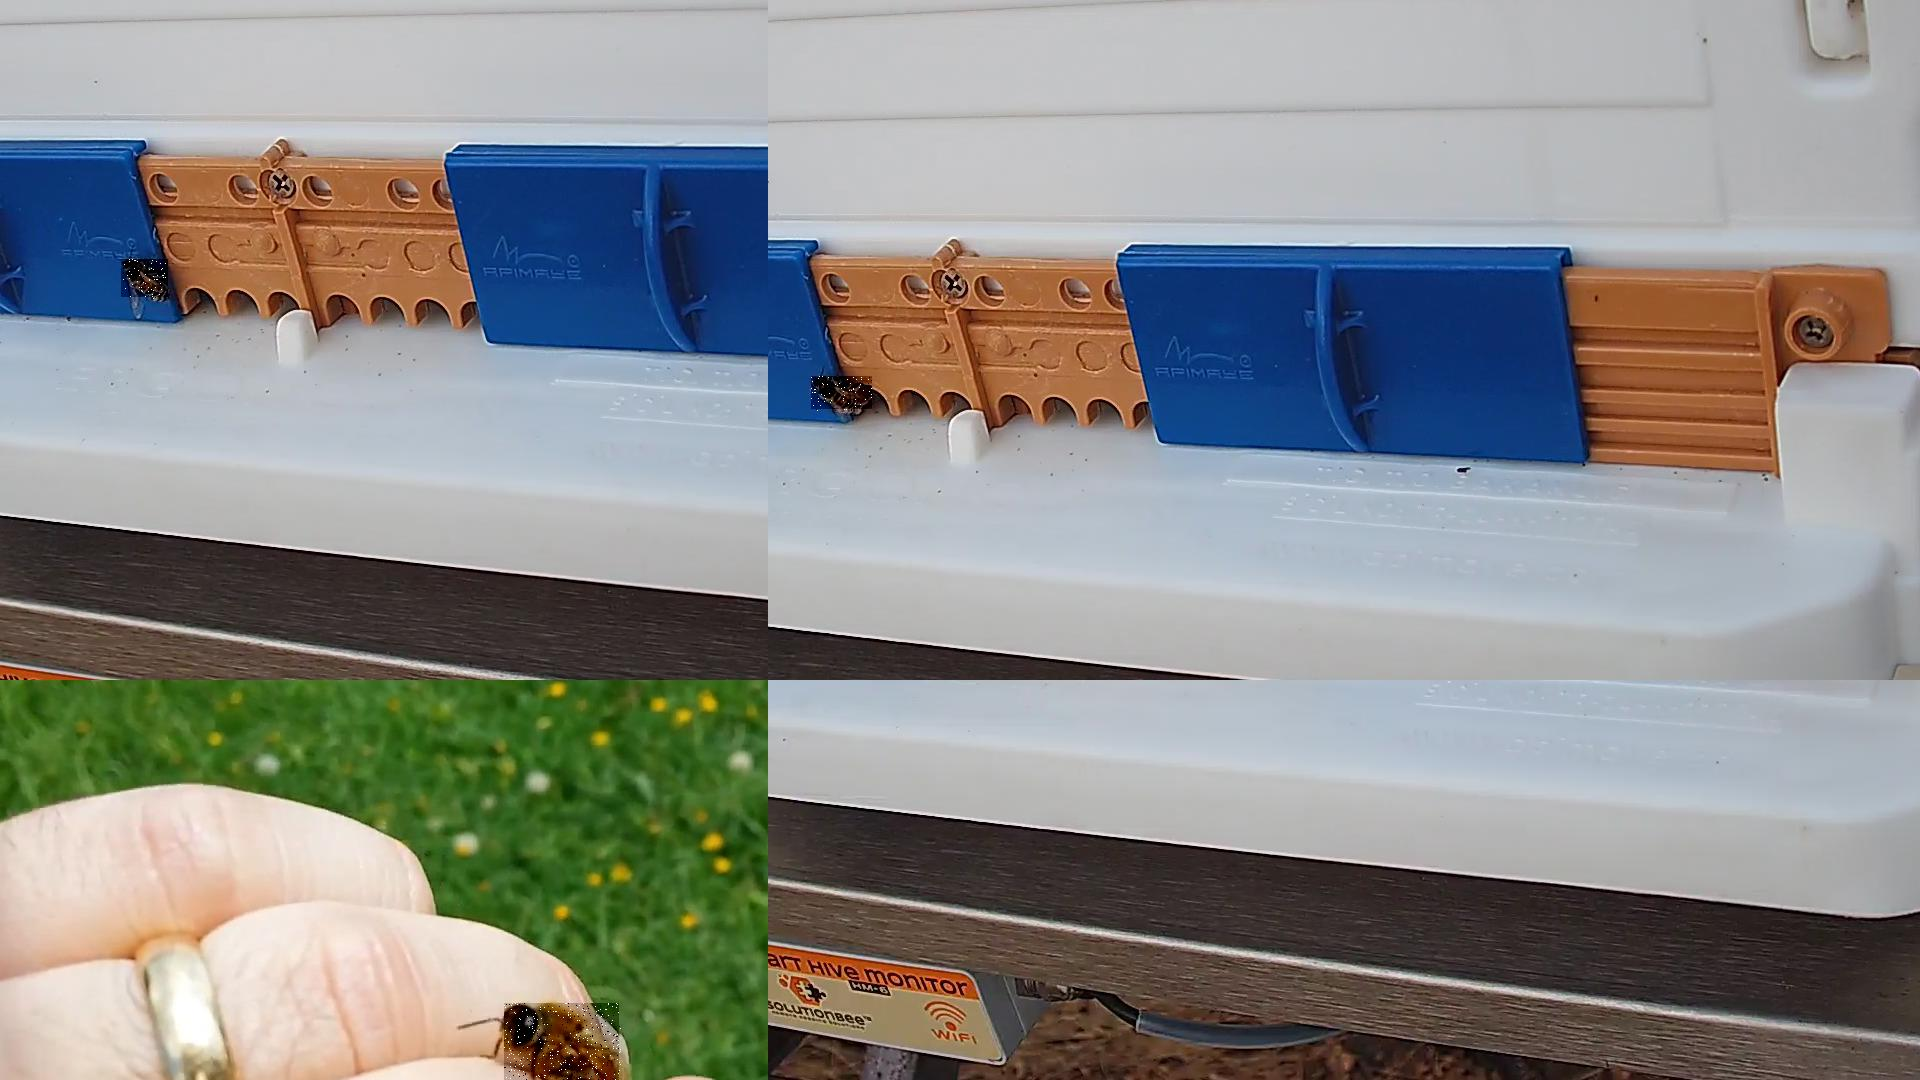bee: (811, 377, 873, 413), (121, 260, 169, 301)
drone: (504, 1004, 622, 1079)
